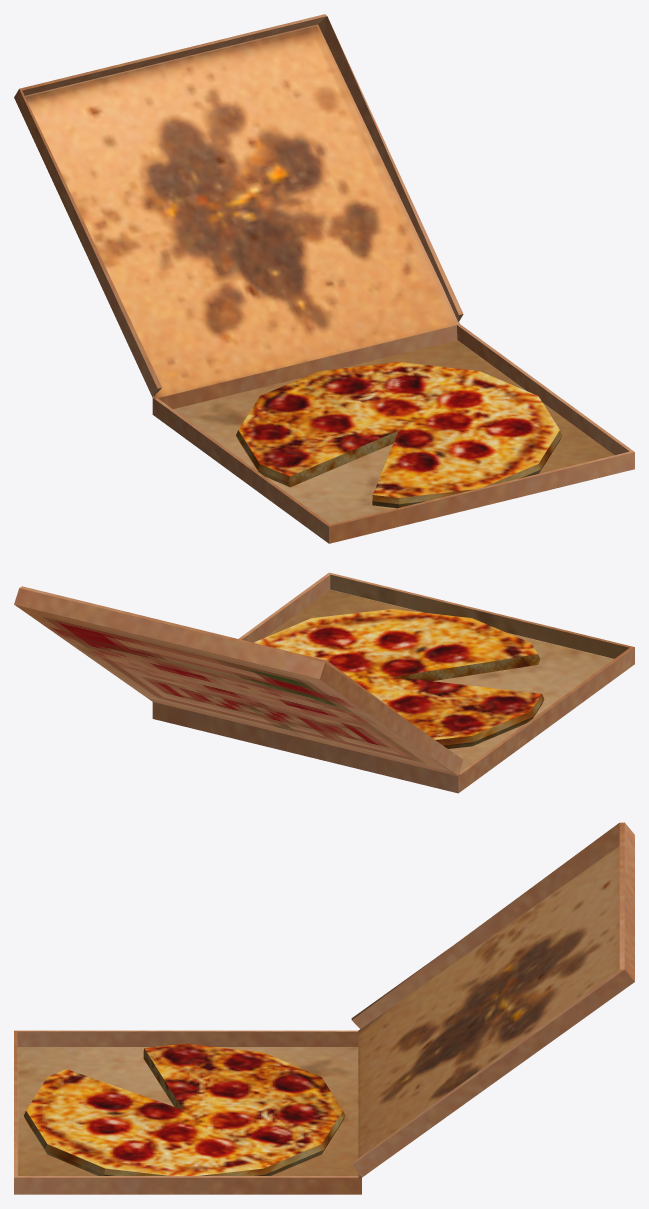
Rendered from pizza_one_slice_gone.obj.
The picture shows the model from 3 angles, top to bottom: view 1: azimuth 30°, elevation 25°; view 2: azimuth 150°, elevation 25°; view 3: azimuth 270°, elevation 25°; orthographic projection.
Parts seen in each view (by area): view 1: pizza_one_slice_gone; view 2: pizza_one_slice_gone; view 3: pizza_one_slice_gone.
Part boxes in pixels (left/top/right/bottom): pizza_one_slice_gone: left=14, top=14, right=634, bottom=543; pizza_one_slice_gone: left=14, top=572, right=634, bottom=793; pizza_one_slice_gone: left=14, top=822, right=634, bottom=1194.
Size of the model in its own units: 0.5276 by 0.3762 by 0.9413.
